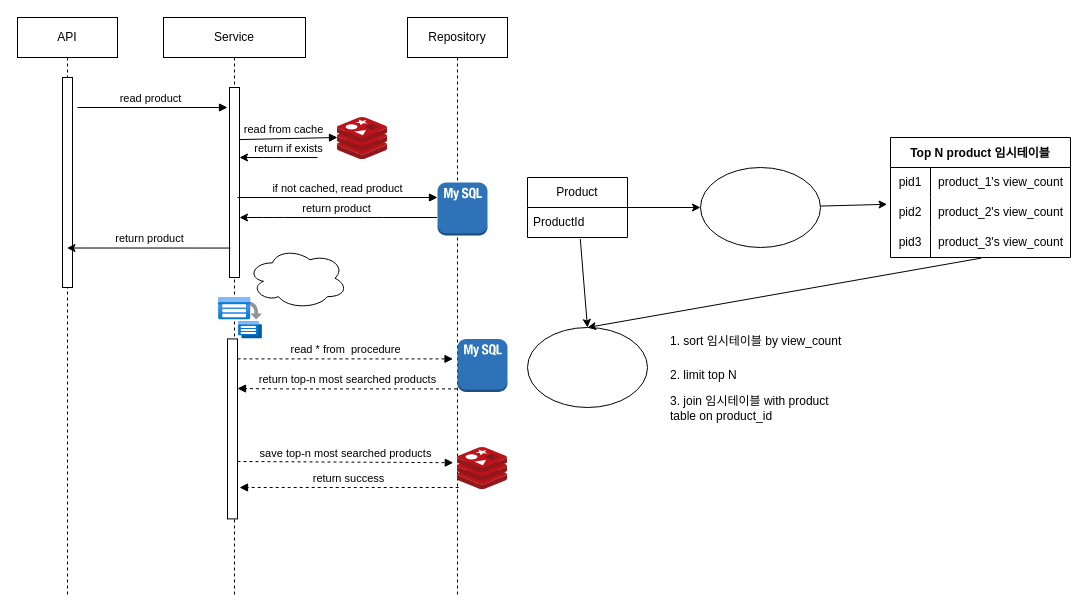
Image size: 1088x615. Some labels were removed from this diagram. The centre of each missing label's shape, as x and y in pixels:
"batch every 20m" goes at point (297, 277).
"procedure top-N-products" goes at point (587, 367).
"trigger when read, view_count+1" goes at point (760, 207).
